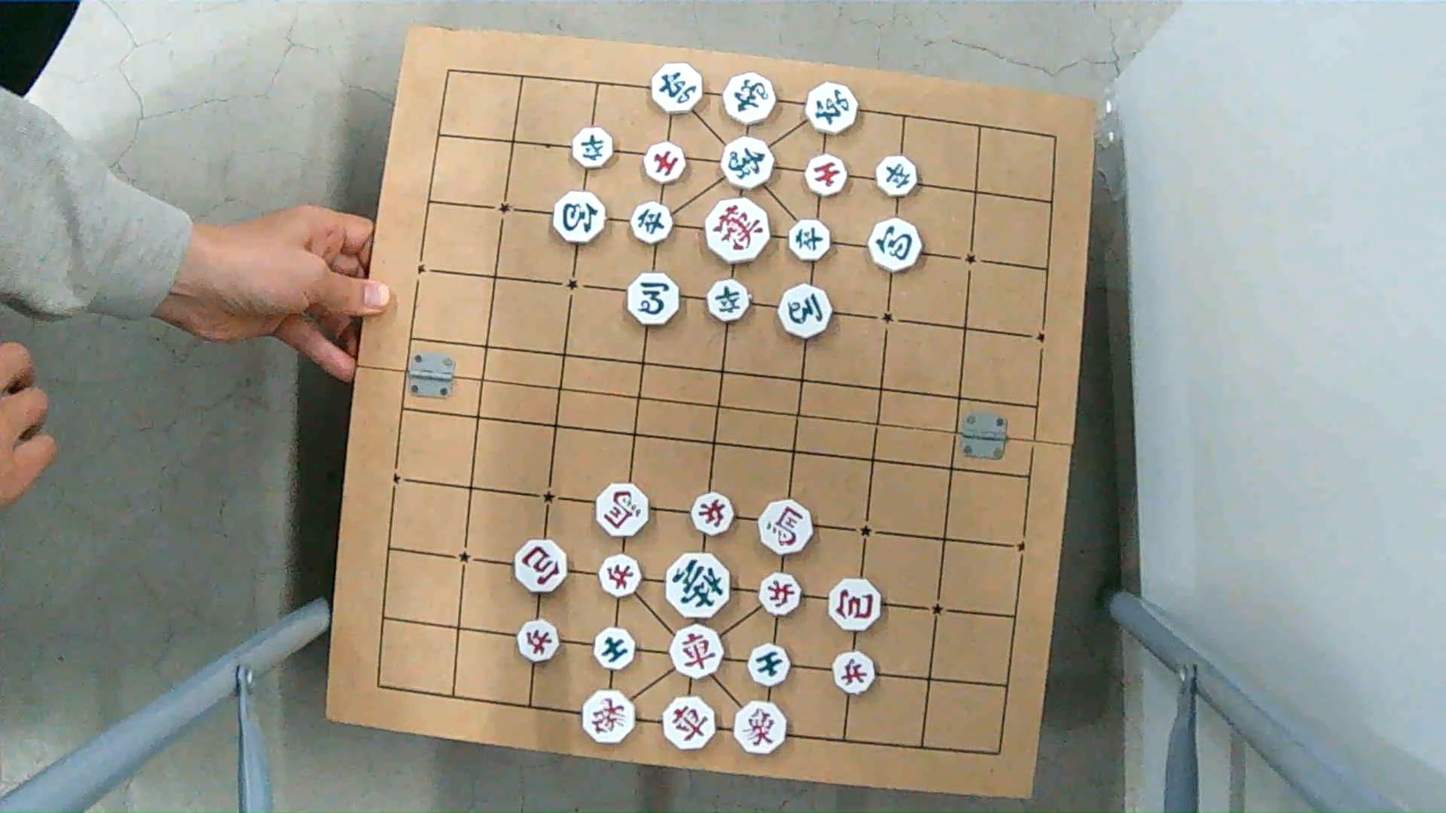cha_green: (802, 84, 860, 132), (651, 66, 706, 114)
cha_red: (664, 697, 722, 749), (669, 627, 727, 676)
jol_green: (706, 281, 753, 319), (571, 128, 615, 167), (875, 158, 920, 196), (789, 218, 829, 260), (627, 202, 673, 238)
jol_red: (688, 493, 737, 533), (828, 653, 876, 693), (594, 556, 643, 595), (518, 620, 560, 661), (760, 571, 801, 613)
ma_green: (776, 288, 834, 338), (626, 276, 682, 323)
ma_red: (593, 484, 651, 535), (758, 501, 816, 550)
po_green: (865, 219, 922, 269), (551, 195, 607, 243)
po_red: (516, 544, 572, 594), (828, 582, 883, 632)
sa_green: (745, 644, 792, 683), (595, 629, 640, 666)
sa_red: (804, 153, 850, 196), (642, 144, 689, 183)
sang_green: (722, 69, 776, 124), (719, 140, 776, 189)
sang_red: (578, 691, 638, 741), (736, 703, 792, 754)
wang_green: (662, 556, 731, 617)
wang_red: (703, 201, 773, 257)
